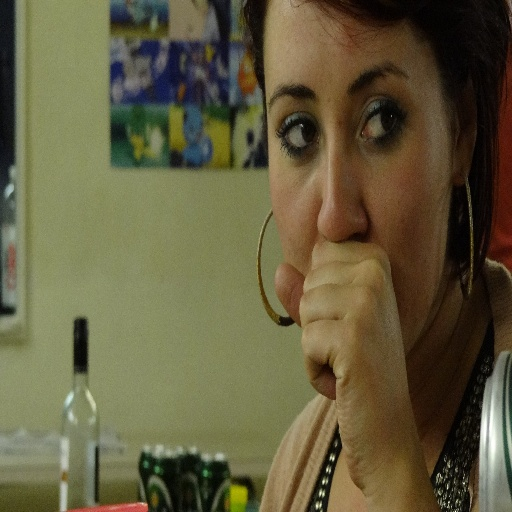hand: (271, 213, 435, 460)
